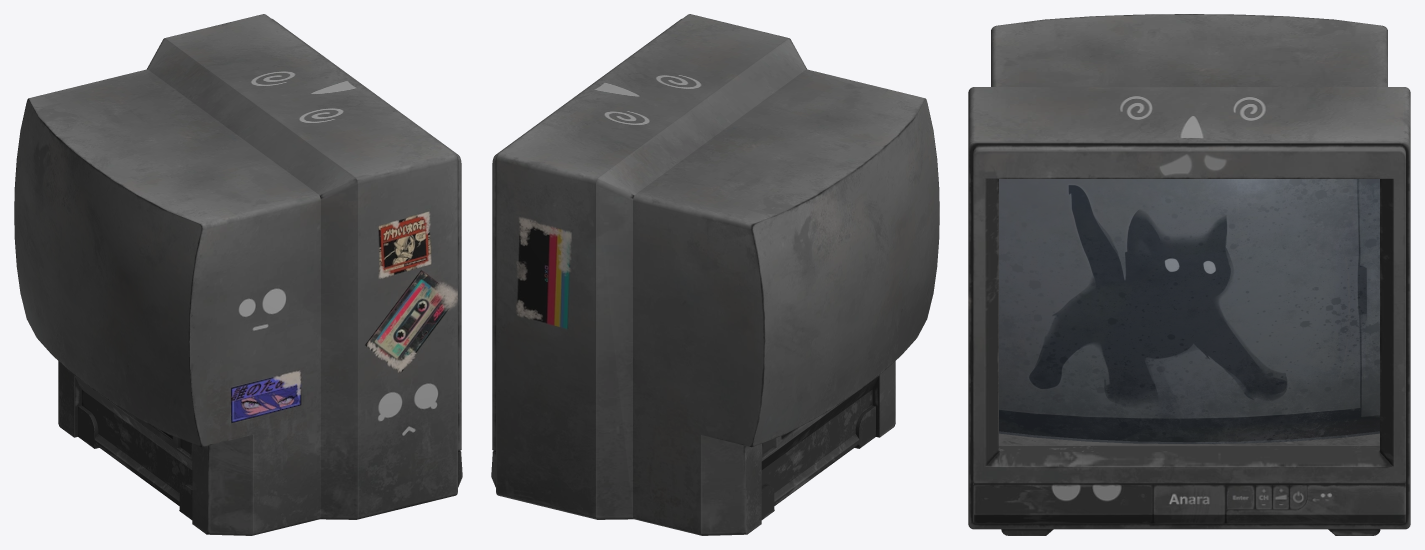
File: retro_crt_tv.glb
The picture shows the model from 3 angles, left to right: view 1: azimuth 30°, elevation 25°; view 2: azimuth 150°, elevation 25°; view 3: azimuth 270°, elevation 25°; orthographic projection. The views are drawn at different scales.
Bounding box in the file's own units: 0.6026 × 0.7109 × 0.7207.
3 materials, 3 textured.
